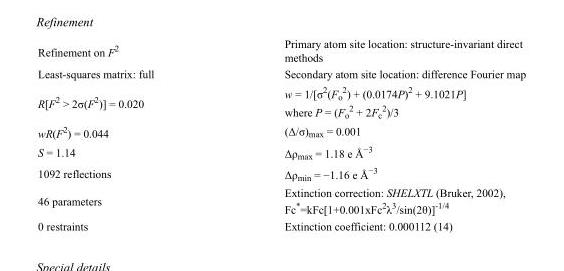table: (37, 36, 525, 231)
table column: (218, 36, 525, 231), (37, 36, 218, 231)
table row: (37, 82, 525, 121), (37, 183, 525, 217), (37, 36, 525, 65), (37, 141, 525, 162), (37, 162, 525, 183), (37, 121, 525, 141), (37, 65, 525, 82), (37, 217, 525, 231)
